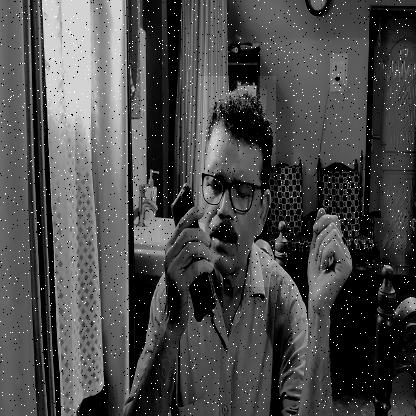Distracted: (198, 76, 276, 287)
